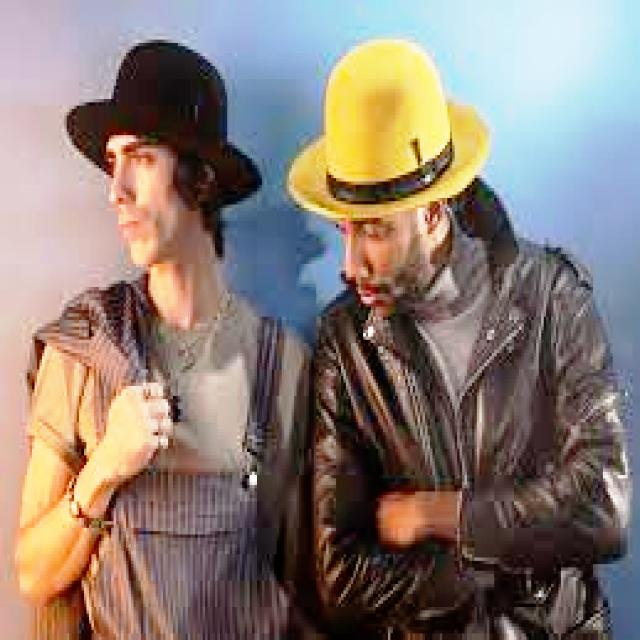TOPI: (282, 33, 494, 221), (59, 30, 267, 214)
